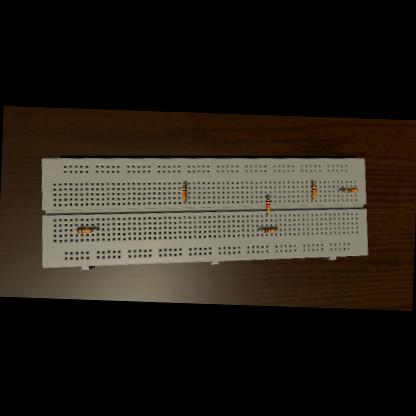breadboard: (38, 146, 372, 280)
resistor: (77, 226, 93, 232), (312, 184, 318, 197), (266, 200, 272, 212), (182, 185, 187, 199), (262, 228, 276, 233), (343, 188, 358, 192)
wire: (93, 228, 99, 230), (312, 197, 315, 200), (311, 180, 315, 182), (266, 213, 270, 215), (338, 190, 345, 191), (266, 196, 269, 198), (257, 230, 262, 231), (184, 182, 186, 184), (184, 200, 186, 202), (74, 230, 76, 231), (277, 229, 278, 230)
